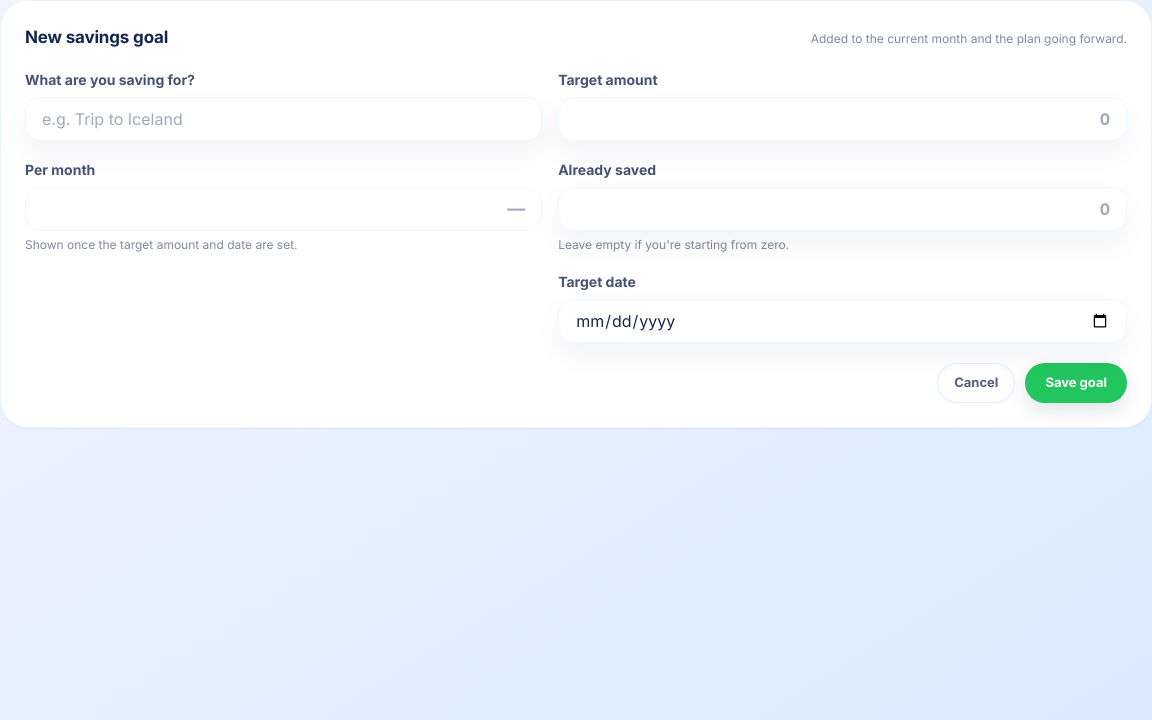
Test: SavingsGoalDraftCard › rejects an amount-saved value greater than the target
Type "Trip" into the field labelled "What are you saving for?".
click(284, 118); type("Trip")  # box [25,96,542,140]
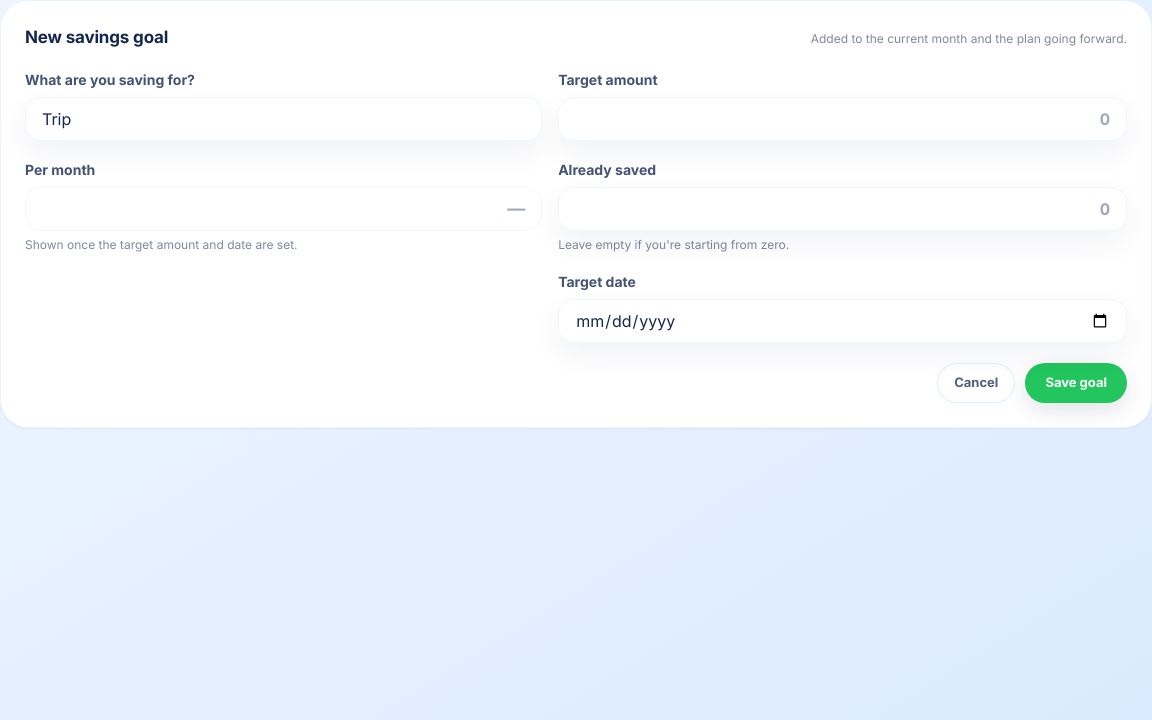
Type "1000" into the field labelled "Target amount".
click(843, 118); type("1000")  # box [558,96,1127,140]
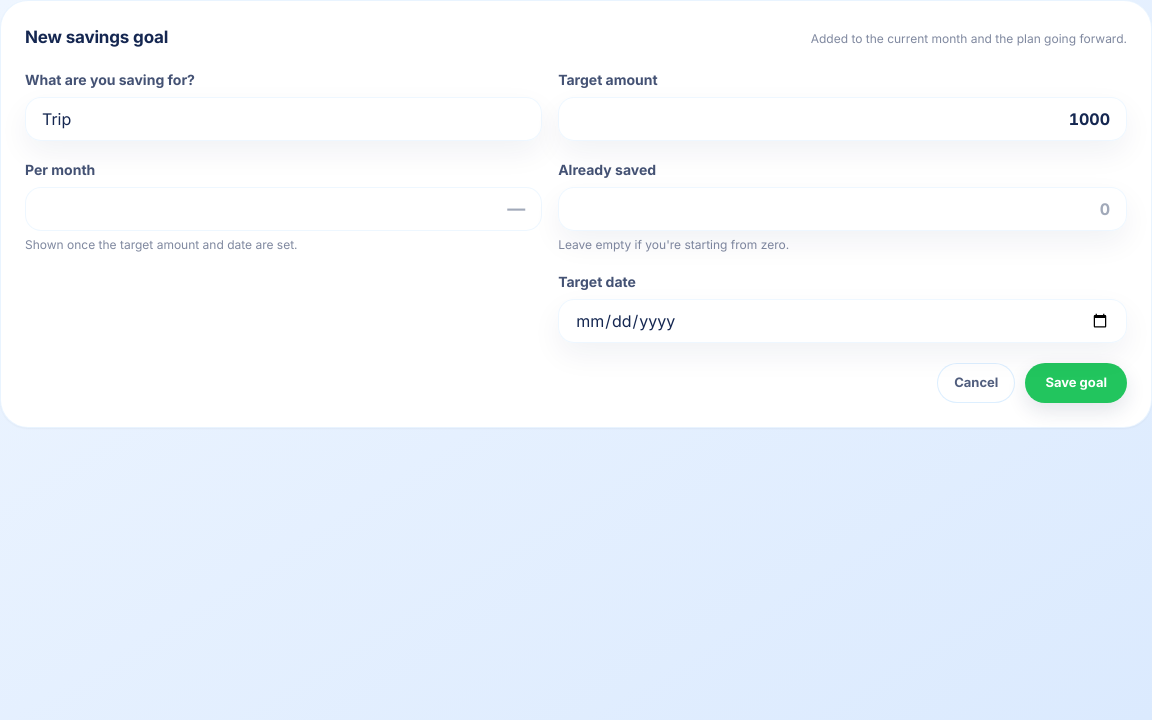
Type "2000" into the field labelled "Already saved".
click(843, 208); type("2000")  # box [558,186,1127,230]
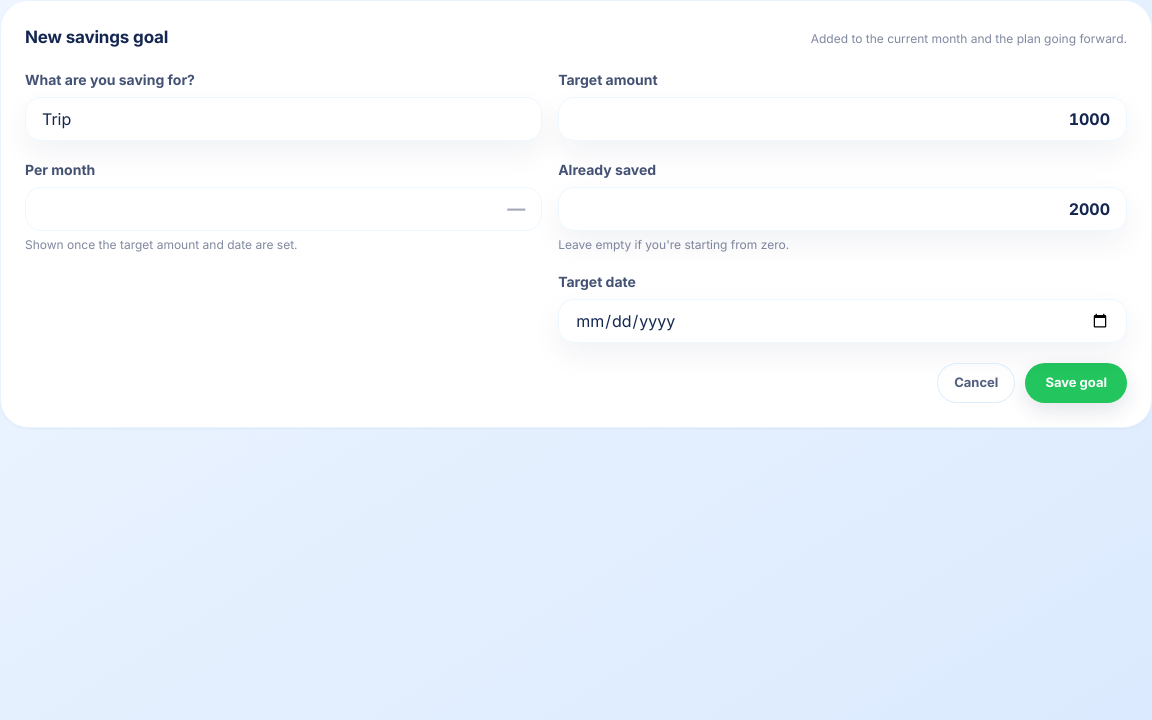
Type "2027-01-01" into the date field labelled "Target date".
click(843, 320); type("2027-01-01")  # box [558,298,1127,342]
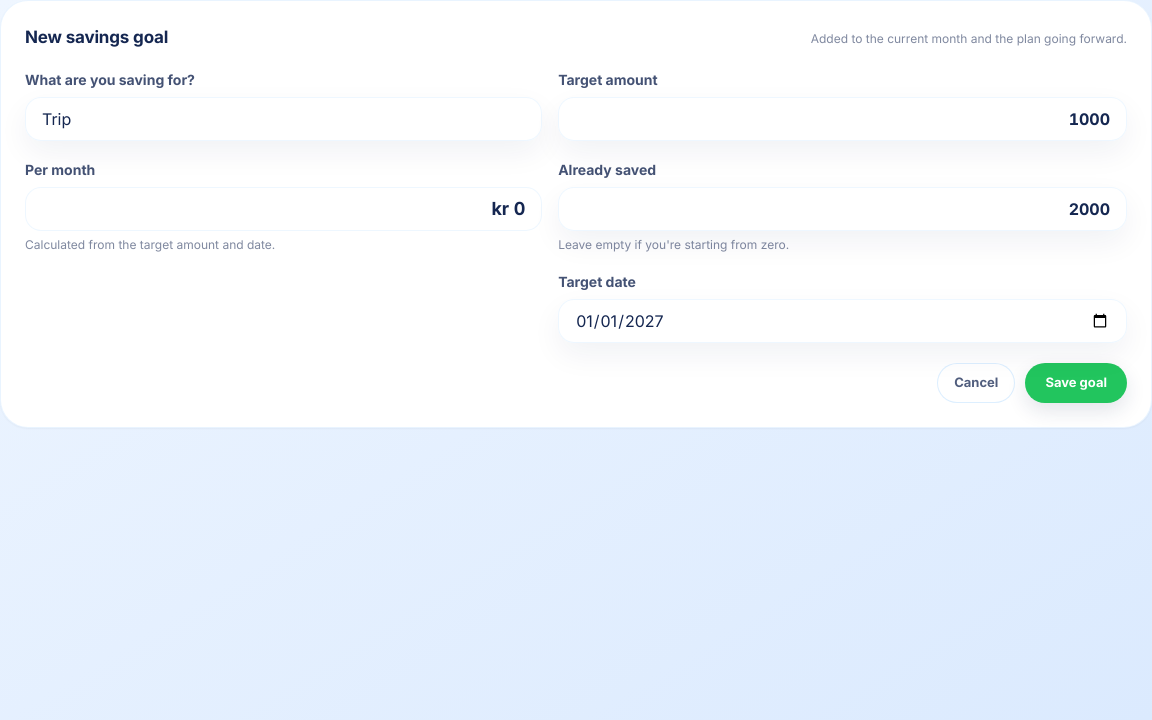
Click the button with test id "savings-draft-submit".
click(1076, 382)  # box [1025,362,1127,402]
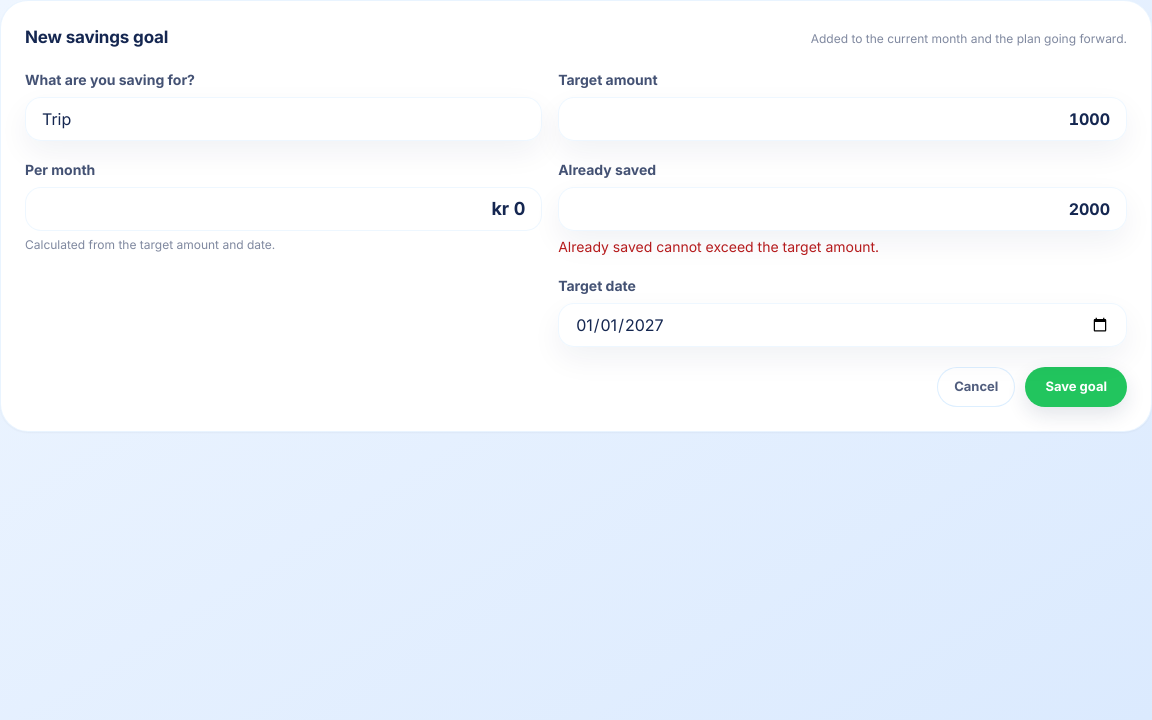
Expected: the text "Already saved cannot exceed the target amount." is shown, [558,238,879,254]
